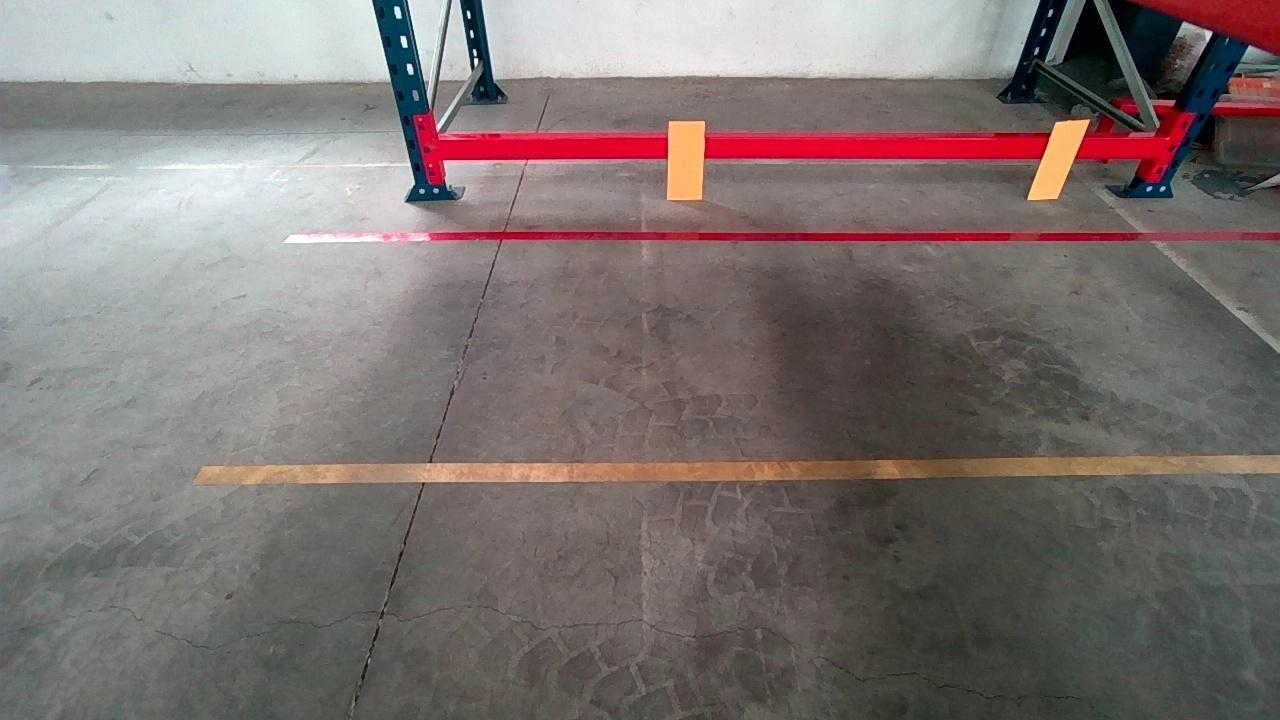h_rack: (446, 128, 1157, 163)
orange_strip: (1027, 119, 1092, 197), (668, 119, 705, 197)
red_line: (302, 226, 1272, 248)
yellow_line: (204, 446, 1279, 484)
